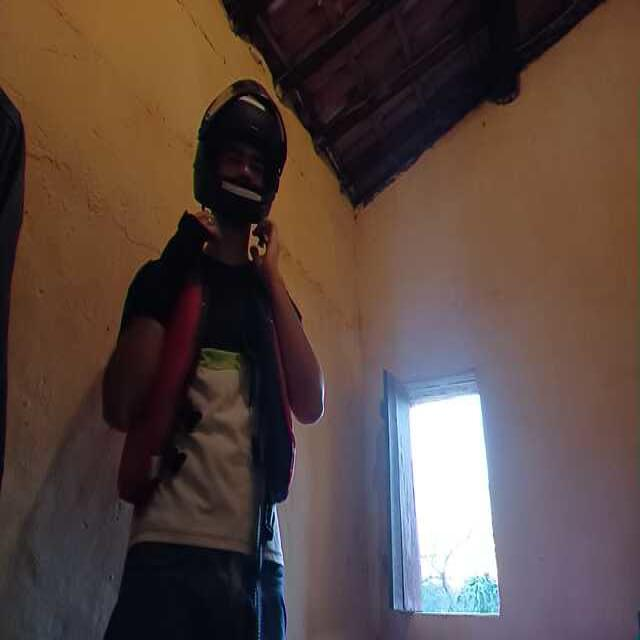capacete: (194, 79, 287, 220)
colete: (120, 253, 198, 501), (247, 258, 300, 504)
pessoa: (120, 131, 295, 640)
